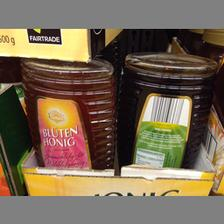Honig: (18, 58, 118, 172), (124, 54, 216, 174)
